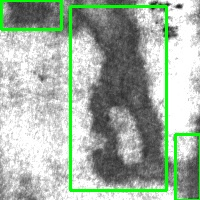patches: (70, 6, 166, 190), (1, 1, 61, 29), (175, 134, 200, 200)
